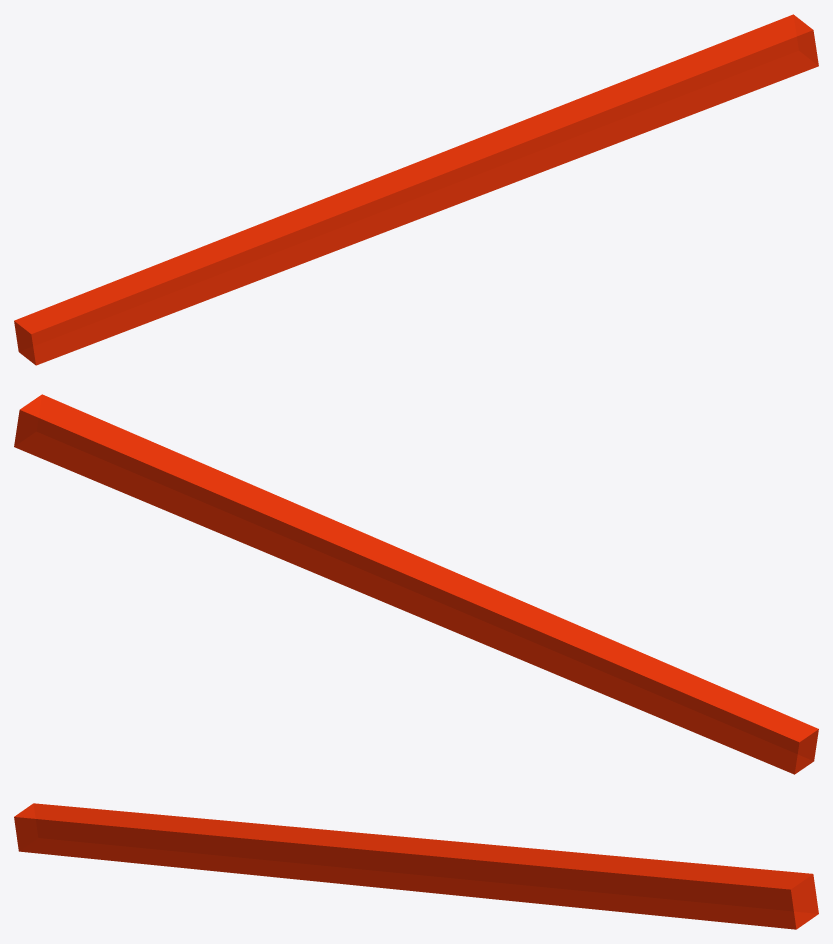
File: Event_421115418_EErechit_70.fbx
The picture shows the model from 3 angles, top to bottom: view 1: azimuth 30°, elevation 25°; view 2: azimuth 150°, elevation 25°; view 3: azimuth 330°, elevation 25°; orthographic projection. The views are drawn at different scales.
Visible parts, largest first — view 1: Model; view 2: Model; view 3: Model.
Part boxes in pixels (x1=…): Model: x1=14, y1=14, x2=818, y2=365; Model: x1=14, y1=394, x2=818, y2=774; Model: x1=14, y1=803, x2=818, y2=929.
Bounding box in the file's own units: 1.79 × 0.3527 × 0.129.
